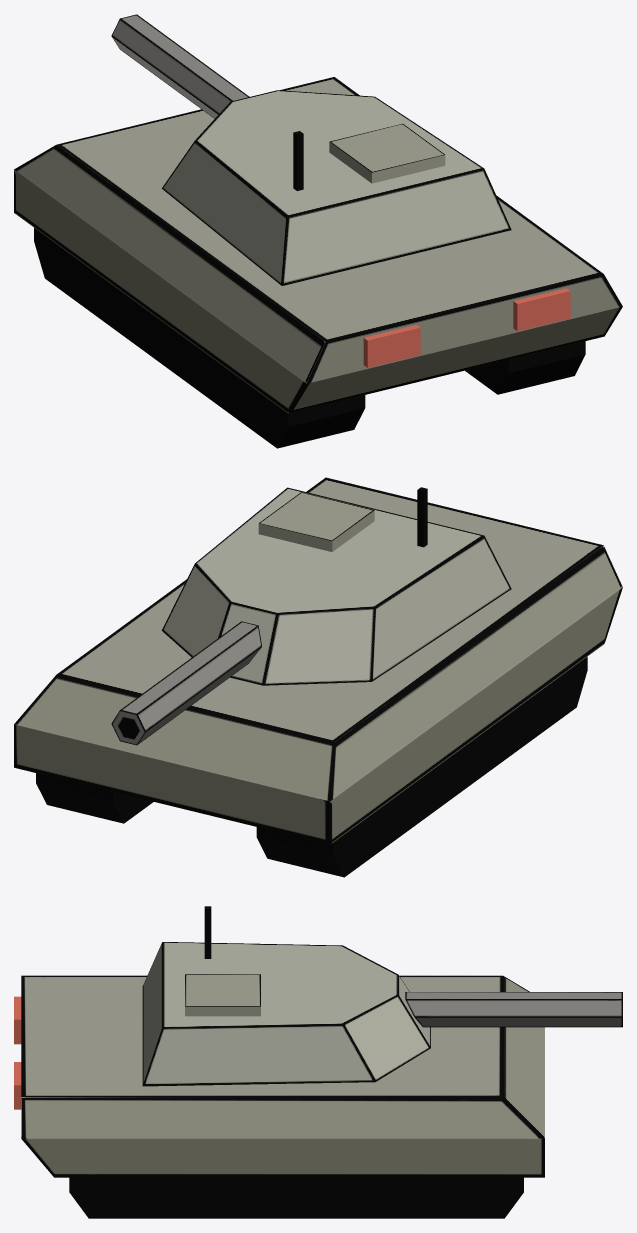
Rendered from tank_gen_1.gltf.
The picture shows the model from 3 angles, top to bottom: view 1: azimuth 30°, elevation 25°; view 2: azimuth 150°, elevation 25°; view 3: azimuth 270°, elevation 25°; orthographic projection. The views are drawn at different scales.
Visible parts, largest first — view 1: Body, Head, Track2, Track1, TailLight2, TailLight1; view 2: Body, Head, Track2, Track1; view 3: Body, Head, Track1.
Part boxes in pixels (left/top/right/bottom): Body: left=14, top=77, right=622, bottom=413; Head: left=111, top=14, right=511, bottom=285; Track2: left=34, top=228, right=365, bottom=448; Track1: left=465, top=341, right=585, bottom=394; TailLight2: left=513, top=288, right=570, bottom=331; TailLight1: left=363, top=325, right=420, bottom=367; Body: left=14, top=477, right=622, bottom=844; Head: left=111, top=487, right=511, bottom=745; Track2: left=256, top=657, right=587, bottom=877; Track1: left=36, top=773, right=153, bottom=823; Body: left=21, top=975, right=544, bottom=1177; Head: left=142, top=906, right=622, bottom=1086; Track1: left=69, top=1177, right=523, bottom=1218.
Bounding box in the file's own units: 13.62 × 10.1 × 25.39.
4 materials, 2 textured.
